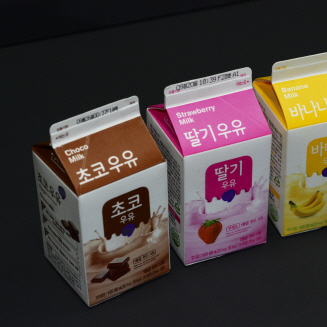milk: (31, 52, 327, 309)
